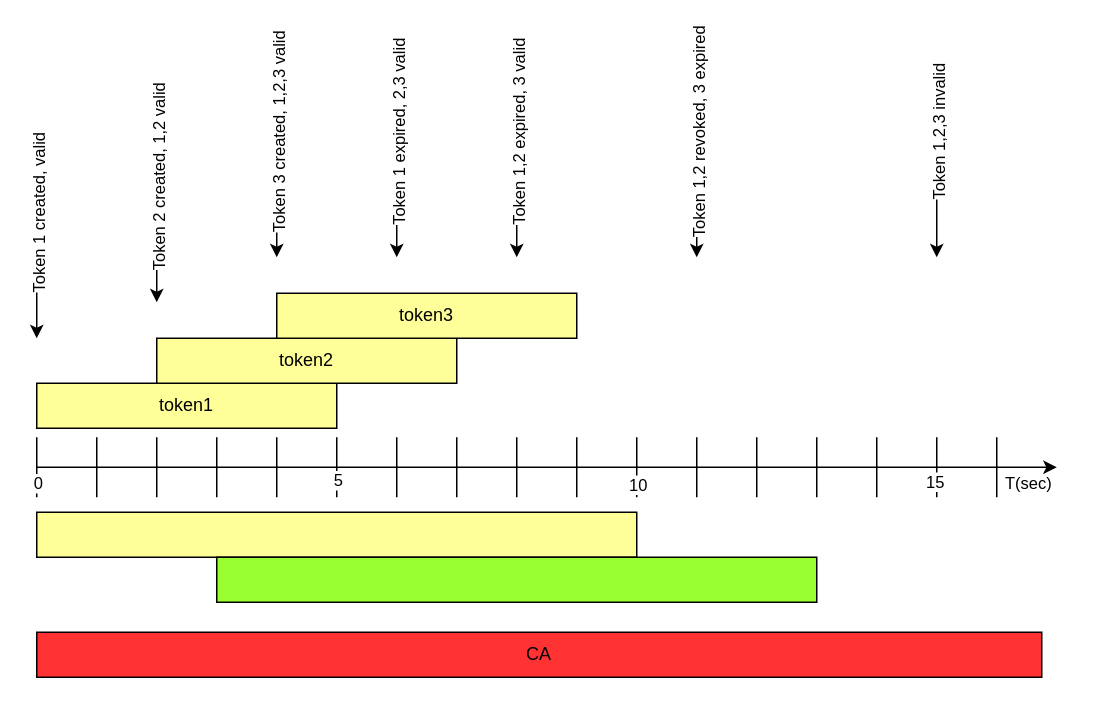
Image size: 1095x704. Some labels were removed from this diagram. The centre of each missing label's shape, as x and y in pixels:
cert1: (x=336, y=534)
cert2: (x=516, y=579)
